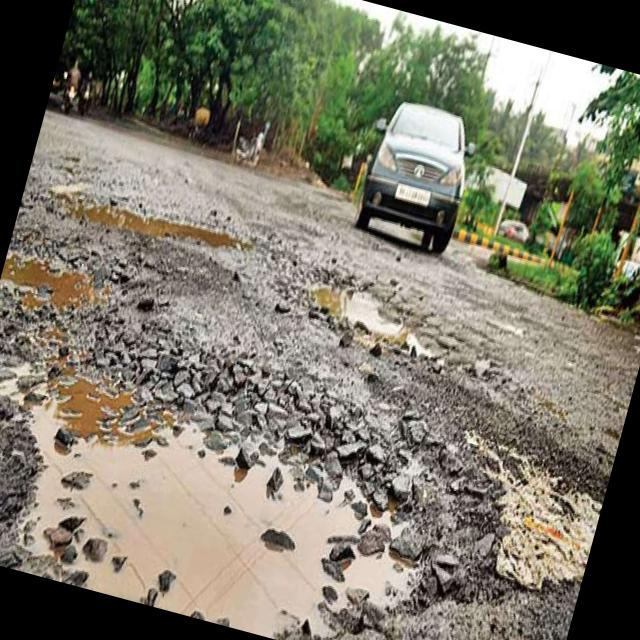Potholes: (0, 313, 470, 640), (263, 216, 475, 397), (460, 422, 616, 608), (32, 151, 257, 275), (0, 229, 124, 336)
